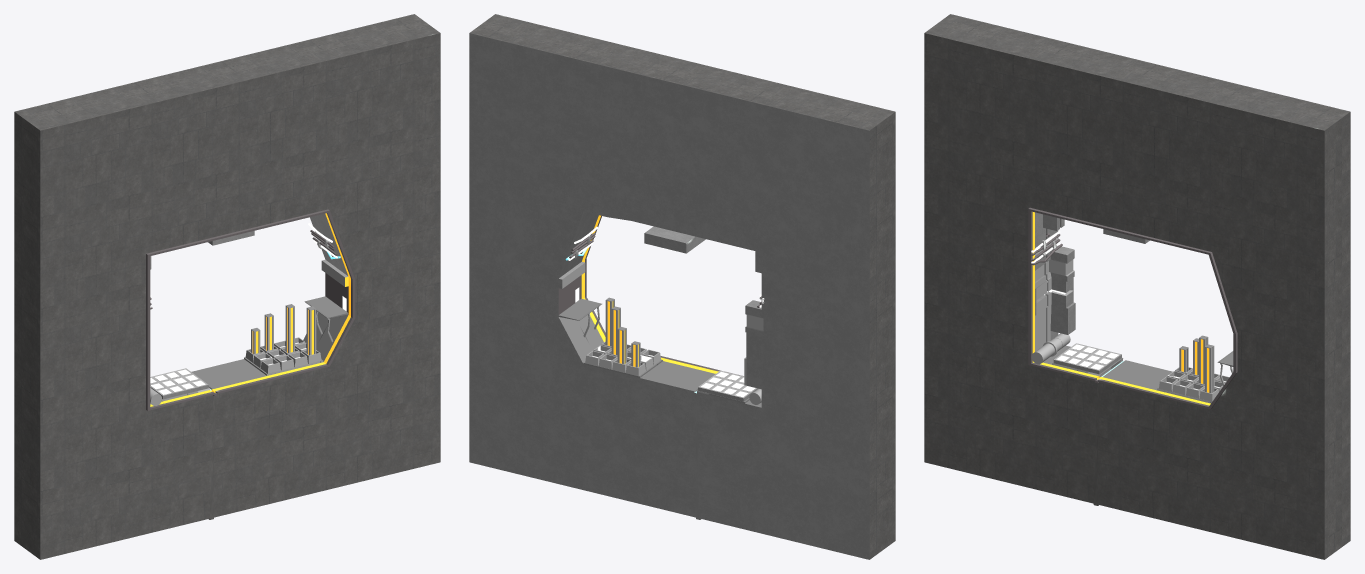
File: Tunnel 1.fbx
3 renders of one model, left to right at view 1: azimuth 30°, elevation 25°; view 2: azimuth 150°, elevation 25°; view 3: azimuth 330°, elevation 25°, orthographic.
Visible parts, largest first — view 1: Cube.022; view 2: Cube.022; view 3: Cube.022.
Boxes of the visible parts, x1=… form: Cube.022: x1=14, y1=14, x2=440, y2=559; Cube.022: x1=469, y1=14, x2=895, y2=559; Cube.022: x1=924, y1=14, x2=1350, y2=559.
Bounding box in the file's own units: 7126 × 7328 × 1086.
